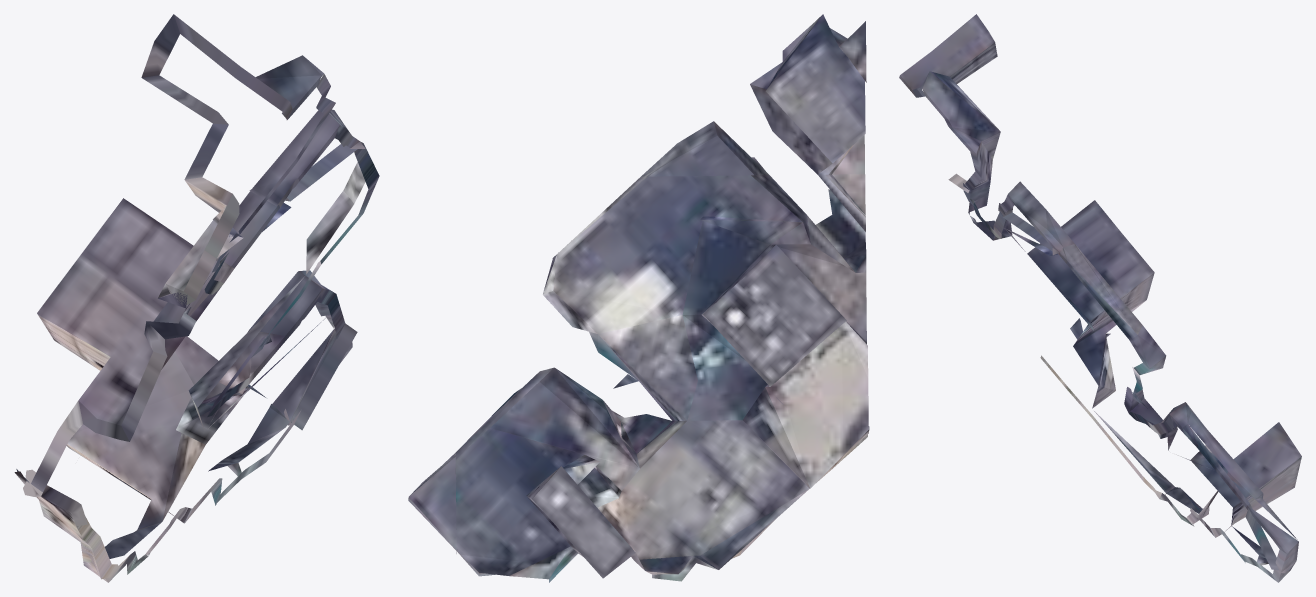
3 renders of one model, left to right at view 1: azimuth 30°, elevation 25°; view 2: azimuth 150°, elevation 25°; view 3: azimuth 270°, elevation 25°, orthographic. The views are drawn at different scales.
Bounding box in the file's own units: 34.11 × 46.32 × 35.96.
Materials: 1 (1 with a texture image).
